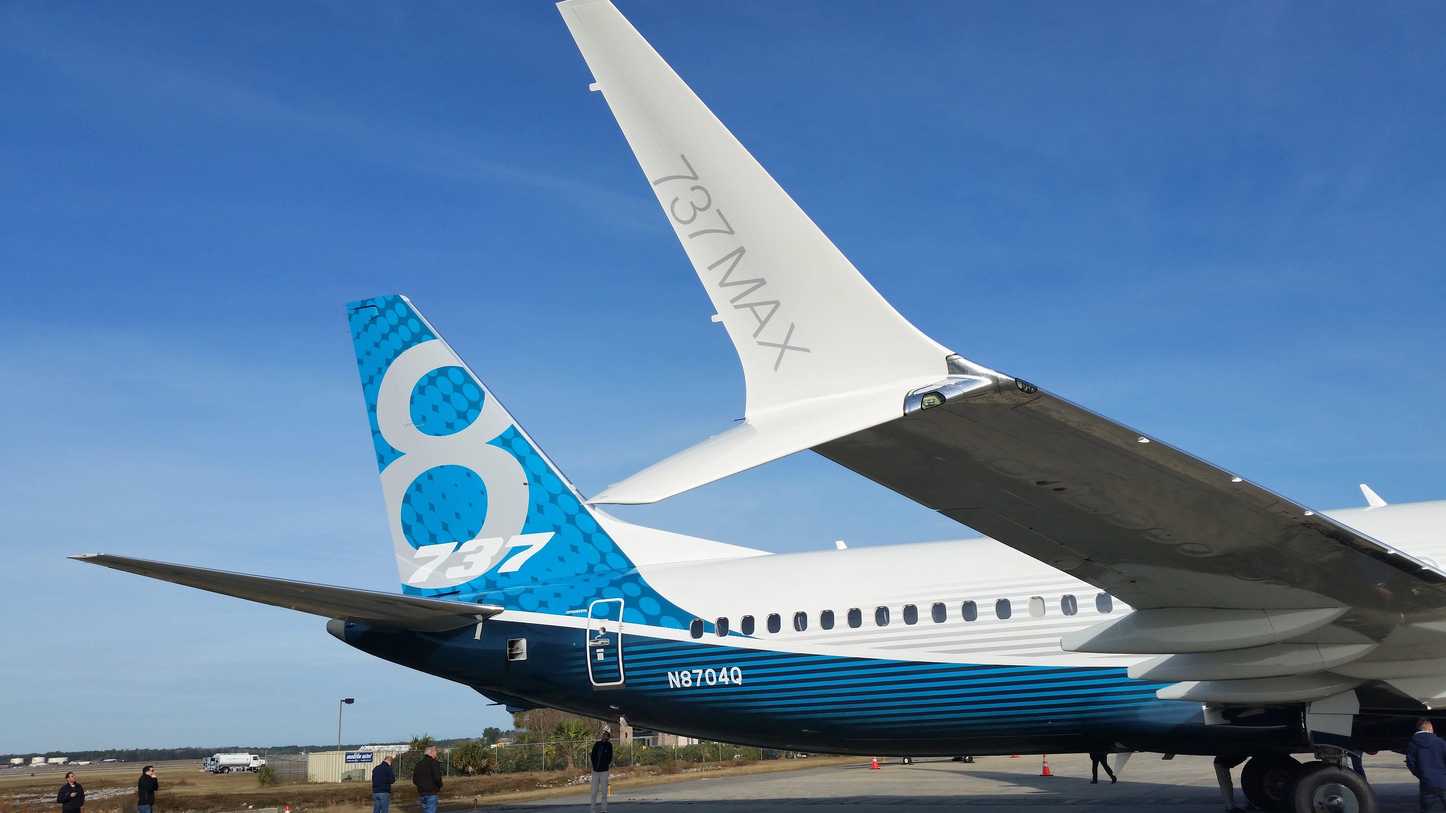aircraft: (85, 6, 1444, 789), (544, 3, 1442, 787)
